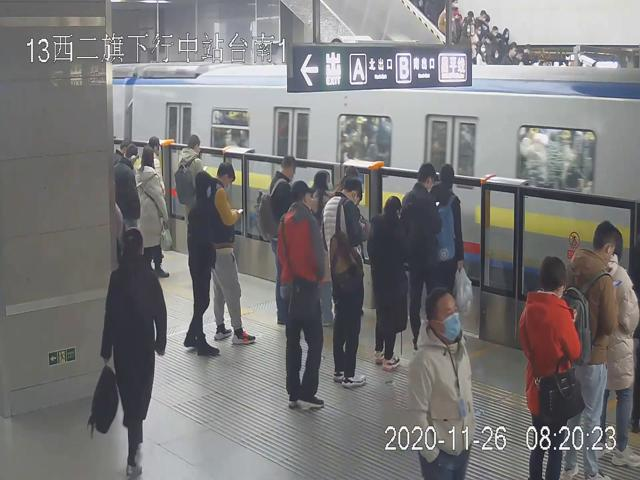person: (99, 227, 168, 480), (518, 255, 582, 480), (565, 222, 618, 480), (408, 286, 477, 480), (278, 180, 327, 413), (321, 179, 368, 387), (210, 161, 258, 345), (402, 161, 442, 355), (369, 194, 409, 369), (183, 172, 221, 356)
